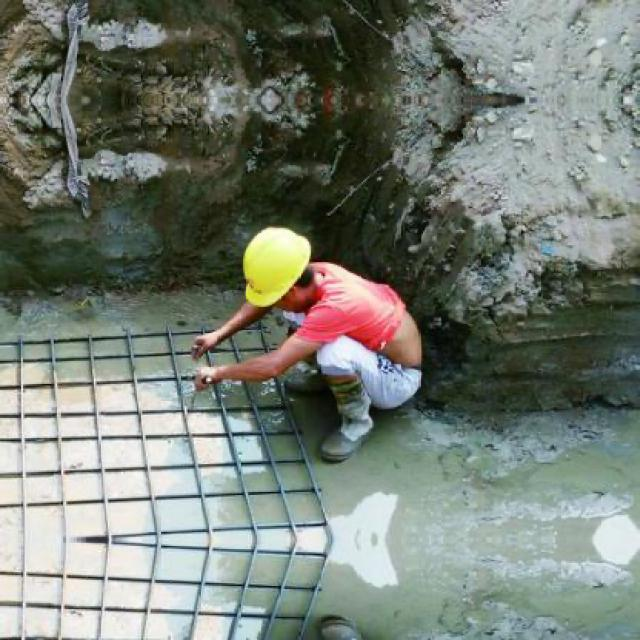helmet: (238, 224, 317, 308)
